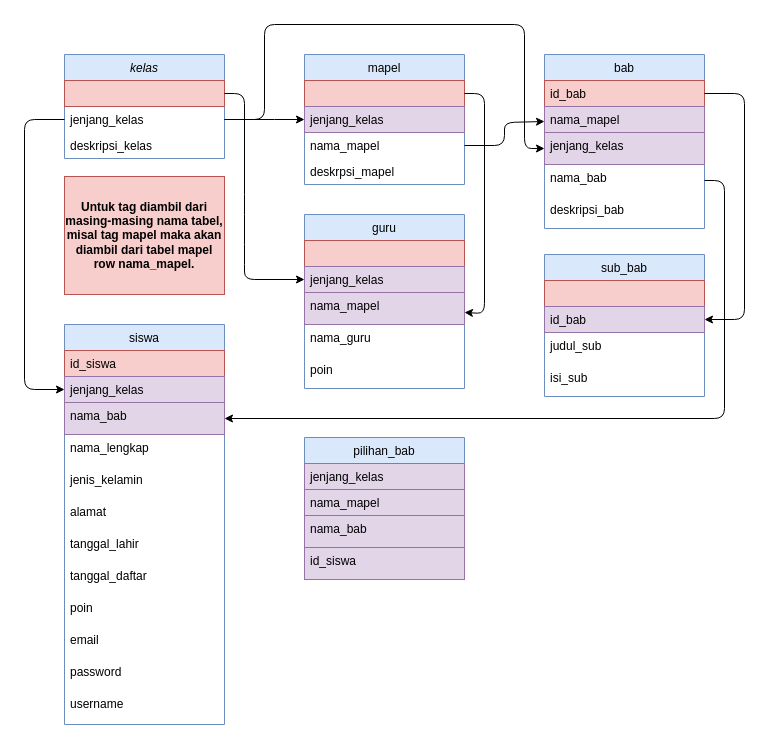
Some shapes in this 770 by 743 pixel diagram are drawn without their labels. Here are the shapes that lost their labels. From the top down, the centre of each, then its label:
point 144,93: id_kelas
point 384,93: id_mapel
point 384,253: id_guru
point 624,293: id_sub
